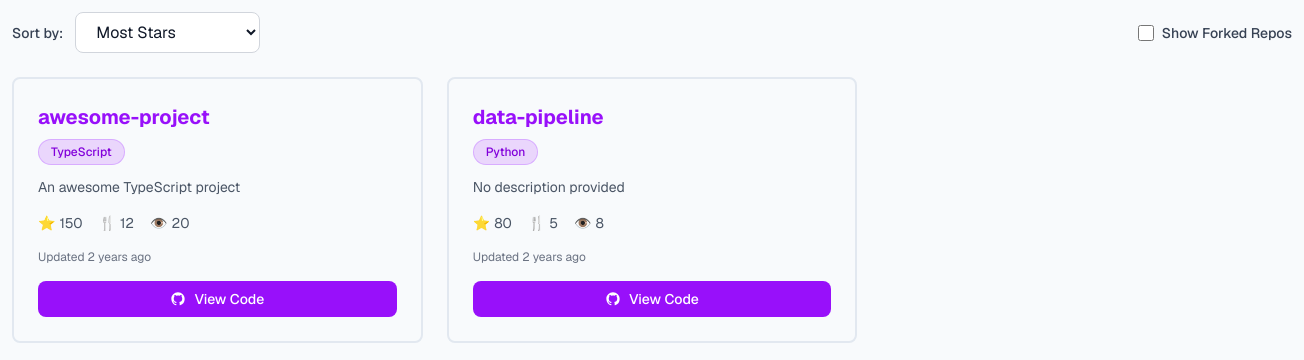
GitHubRepos › hides forked repos by default and reveals them when toggled
Expected: the text "forked-lib" is not shown
Click the checkbox labelled "Show Forked Repos" at (1146, 32), box [1138, 24, 1154, 40]
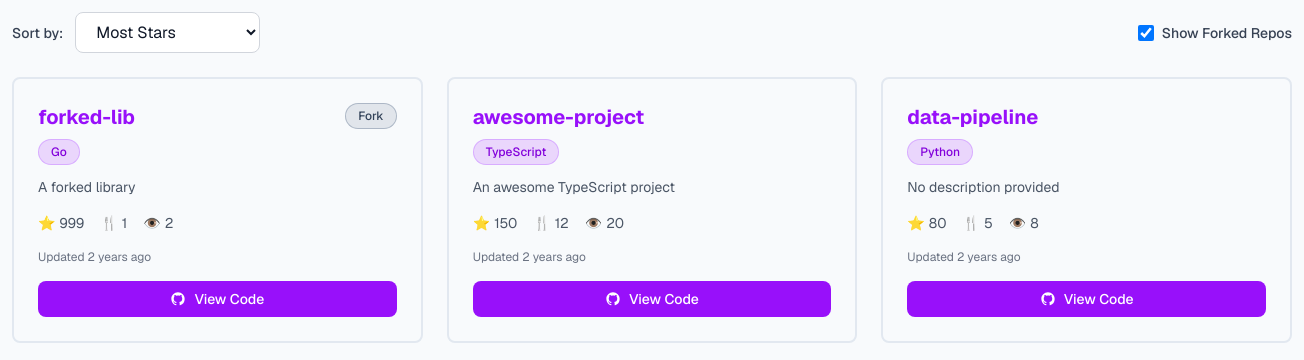
Result: the link "forked-lib" is shown at [38, 104, 135, 130]
